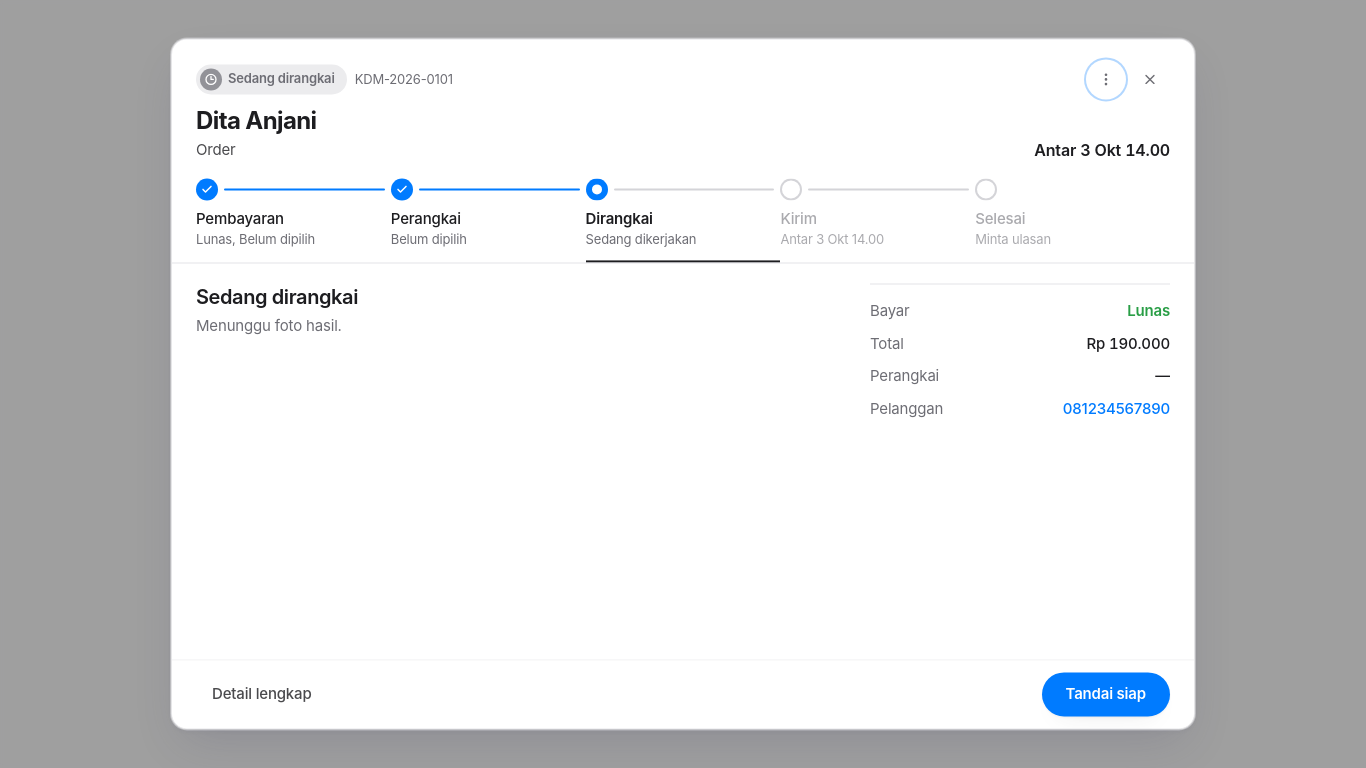
Test: order details panel › shows phone, time and address without expanding anything
Click the button "Detail lengkap" at (262, 695), box [196,673,328,717]
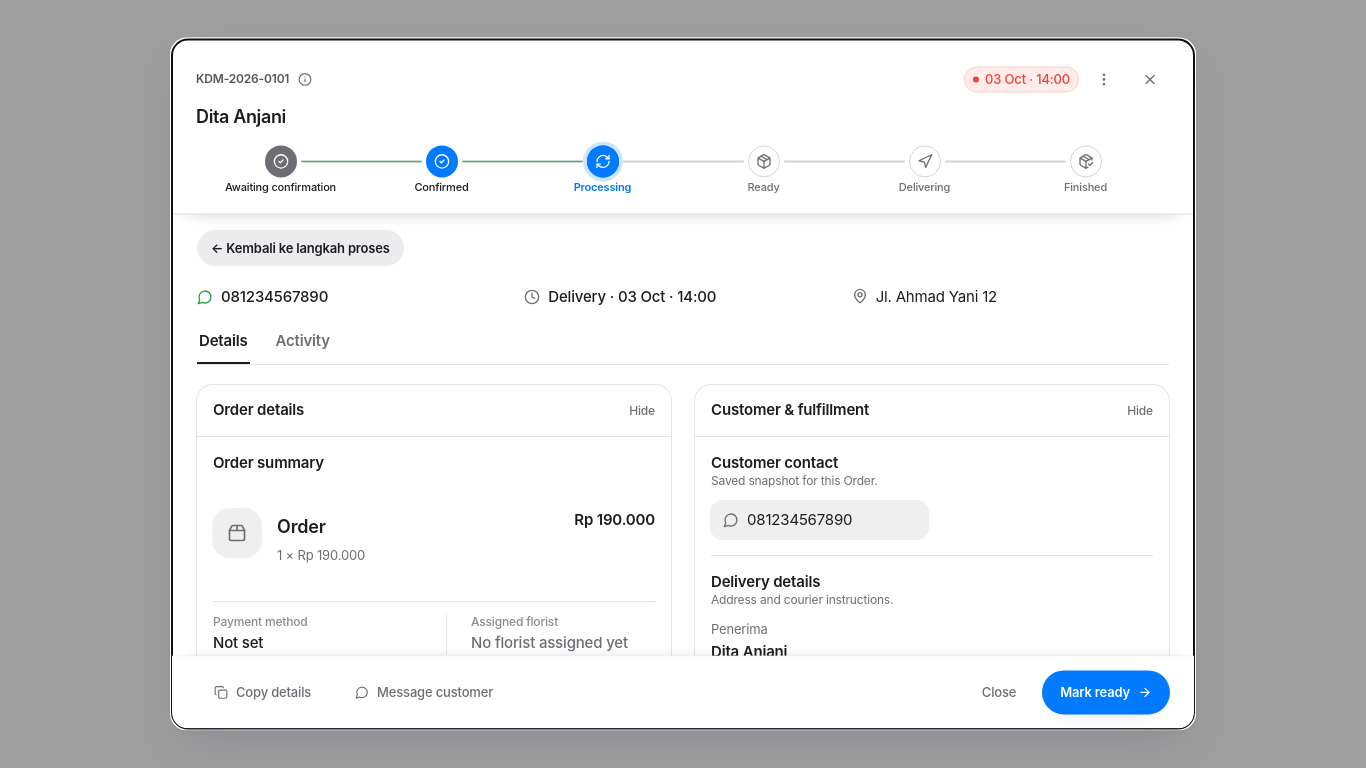
Expected: the text "Delivery · 03 Oct · 14:00" is shown, [548,286,716,309]
Expected: the text "Jl. Ahmad Yani 12" is shown, [876,286,997,309]
